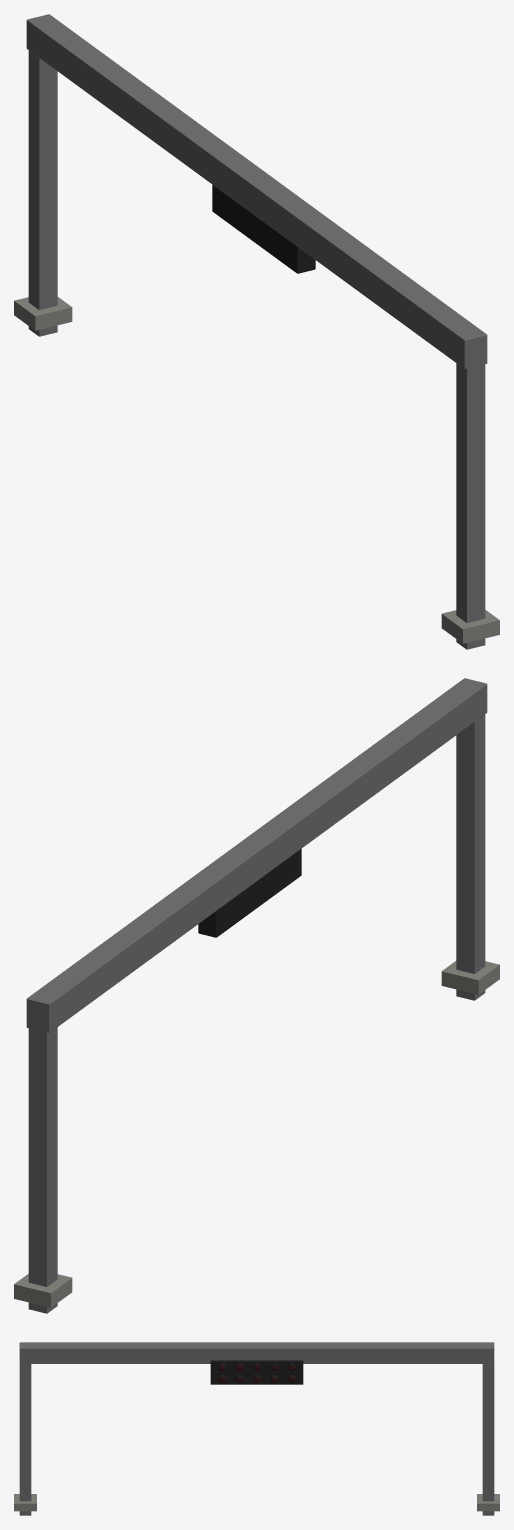
The model's file is SM_Prop_start_gantry_0.glb.
The picture shows the model from 3 angles, top to bottom: view 1: azimuth 30°, elevation 25°; view 2: azimuth 150°, elevation 25°; view 3: azimuth 270°, elevation 25°; orthographic projection. The views are drawn at different scales.
Parts seen in each view (by area): view 1: SM_Prop_start_gantry_0; view 2: SM_Prop_start_gantry_0; view 3: SM_Prop_start_gantry_0.
Boxes of the visible parts, x1=… form: SM_Prop_start_gantry_0: x1=14, y1=14, x2=499, y2=649; SM_Prop_start_gantry_0: x1=14, y1=678, x2=499, y2=1313; SM_Prop_start_gantry_0: x1=14, y1=1342, x2=499, y2=1515.
Bounding box in the file's own units: 0.91 × 6.4 × 16.8.
